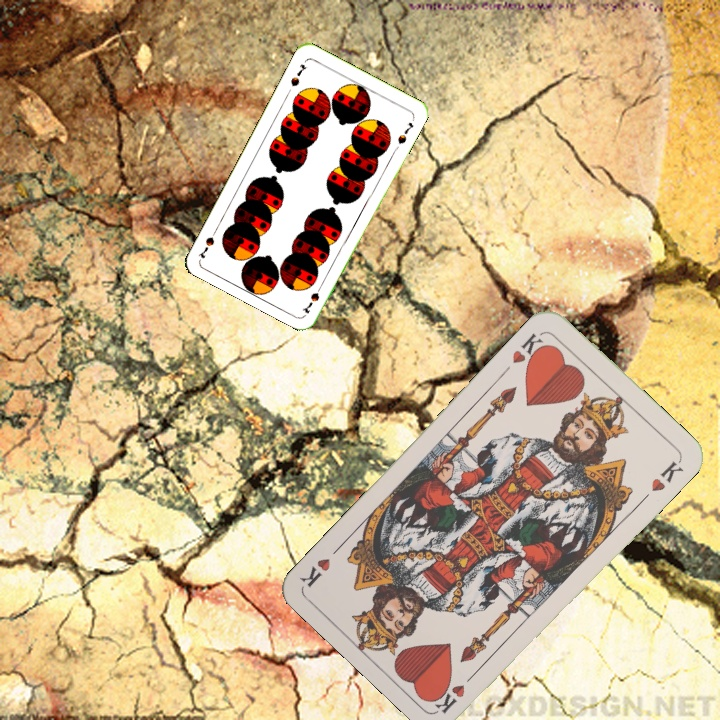HK: (431, 666, 481, 716), (508, 328, 550, 370)
S7: (299, 279, 326, 316), (286, 60, 310, 89)
